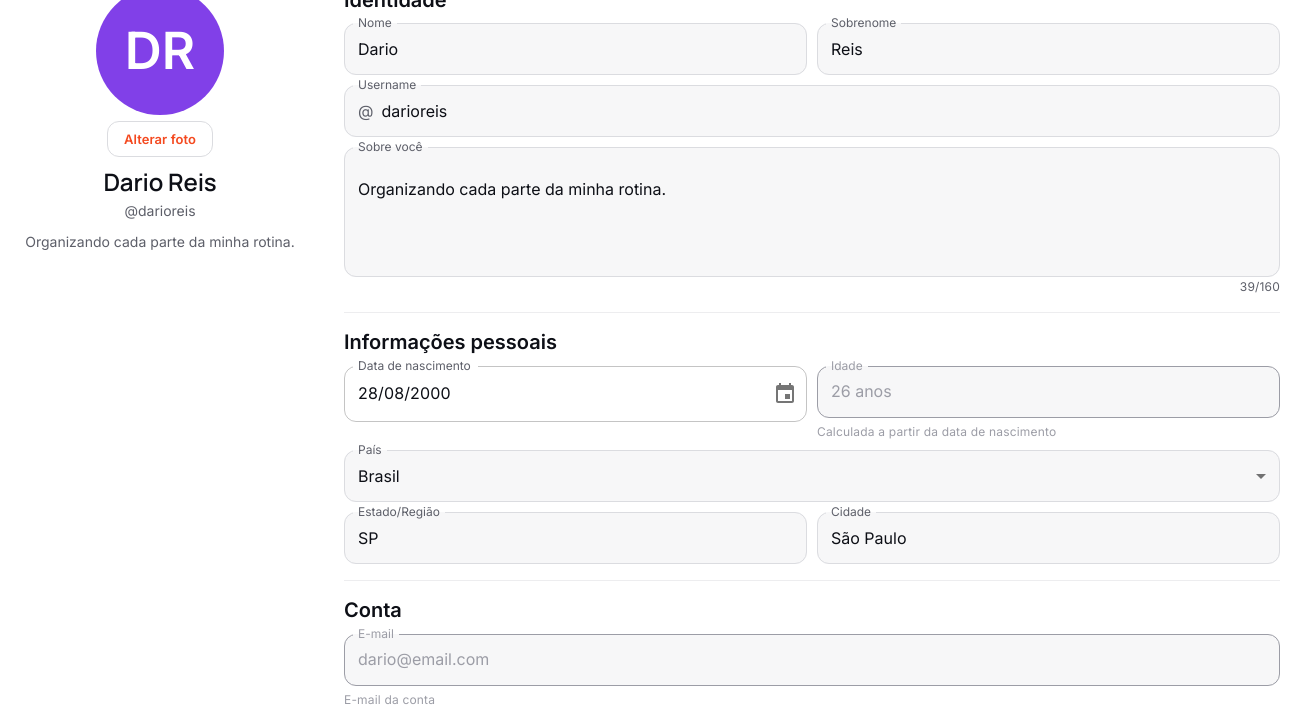
Test: ProfileForm › saves successfully and shows the success feedback
In the field labelled "Nome": coordinates (576, 49) [344,24,807,75], type " Editado"
(page scrolled)
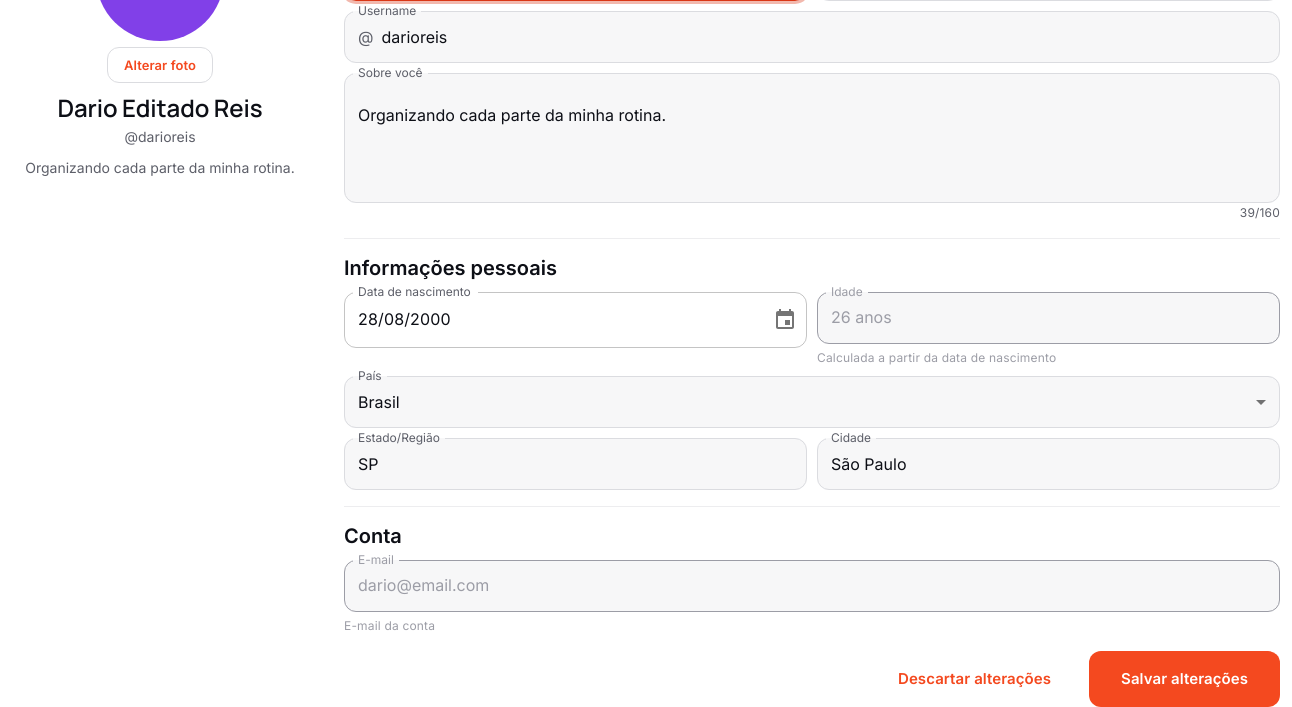
Click the button "Salvar alterações": coordinates (1185, 679) [1089,651,1280,706]
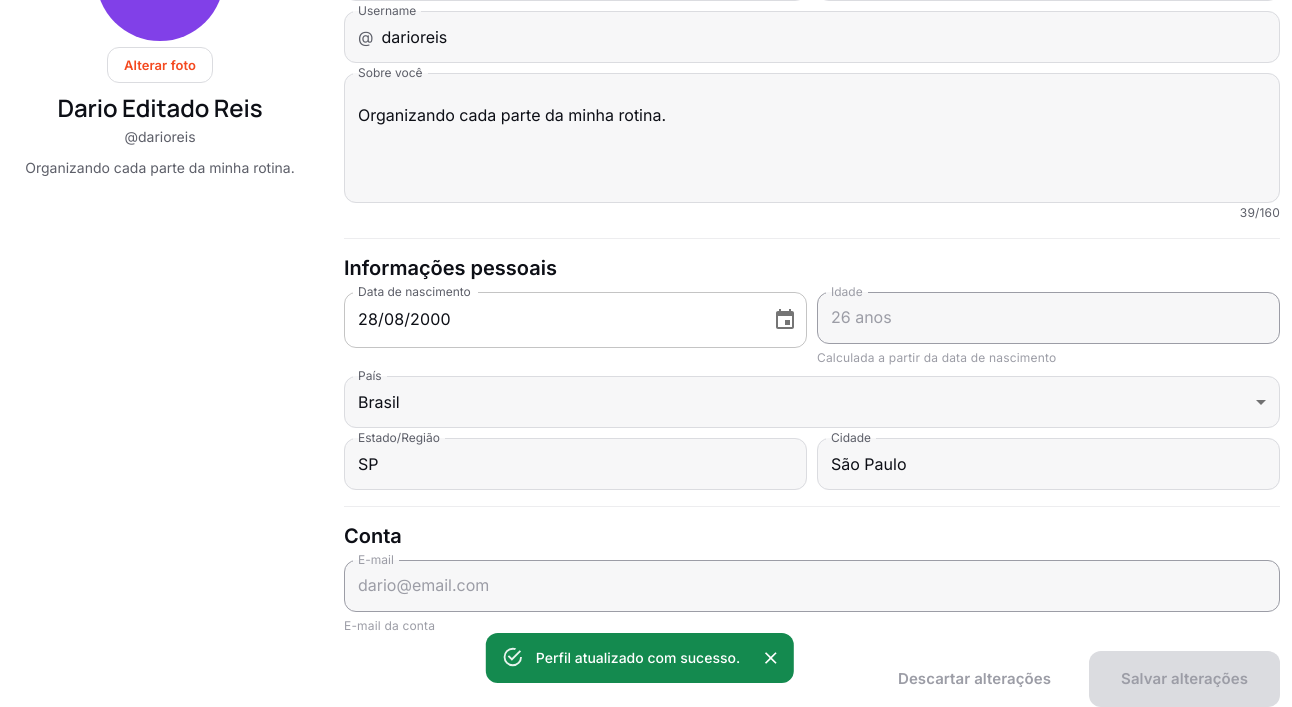
Expected: the text "Perfil atualizado com sucesso." is shown, [536,649,740,666]
Expected: the button "Salvar alterações" is disabled, [1089,651,1280,706]
